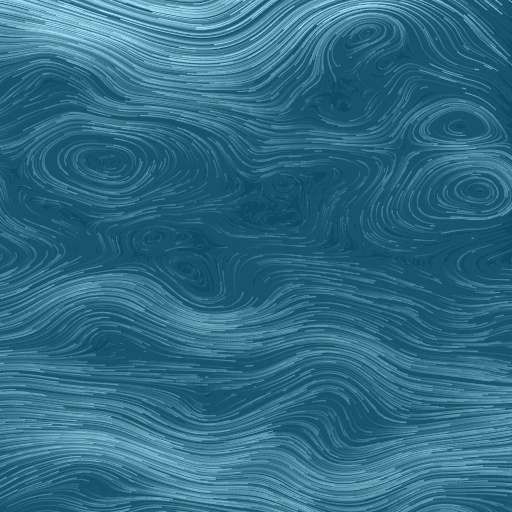eddy: (40, 128, 164, 202), (434, 166, 508, 220), (414, 101, 496, 149), (160, 247, 222, 304), (337, 16, 390, 54)
